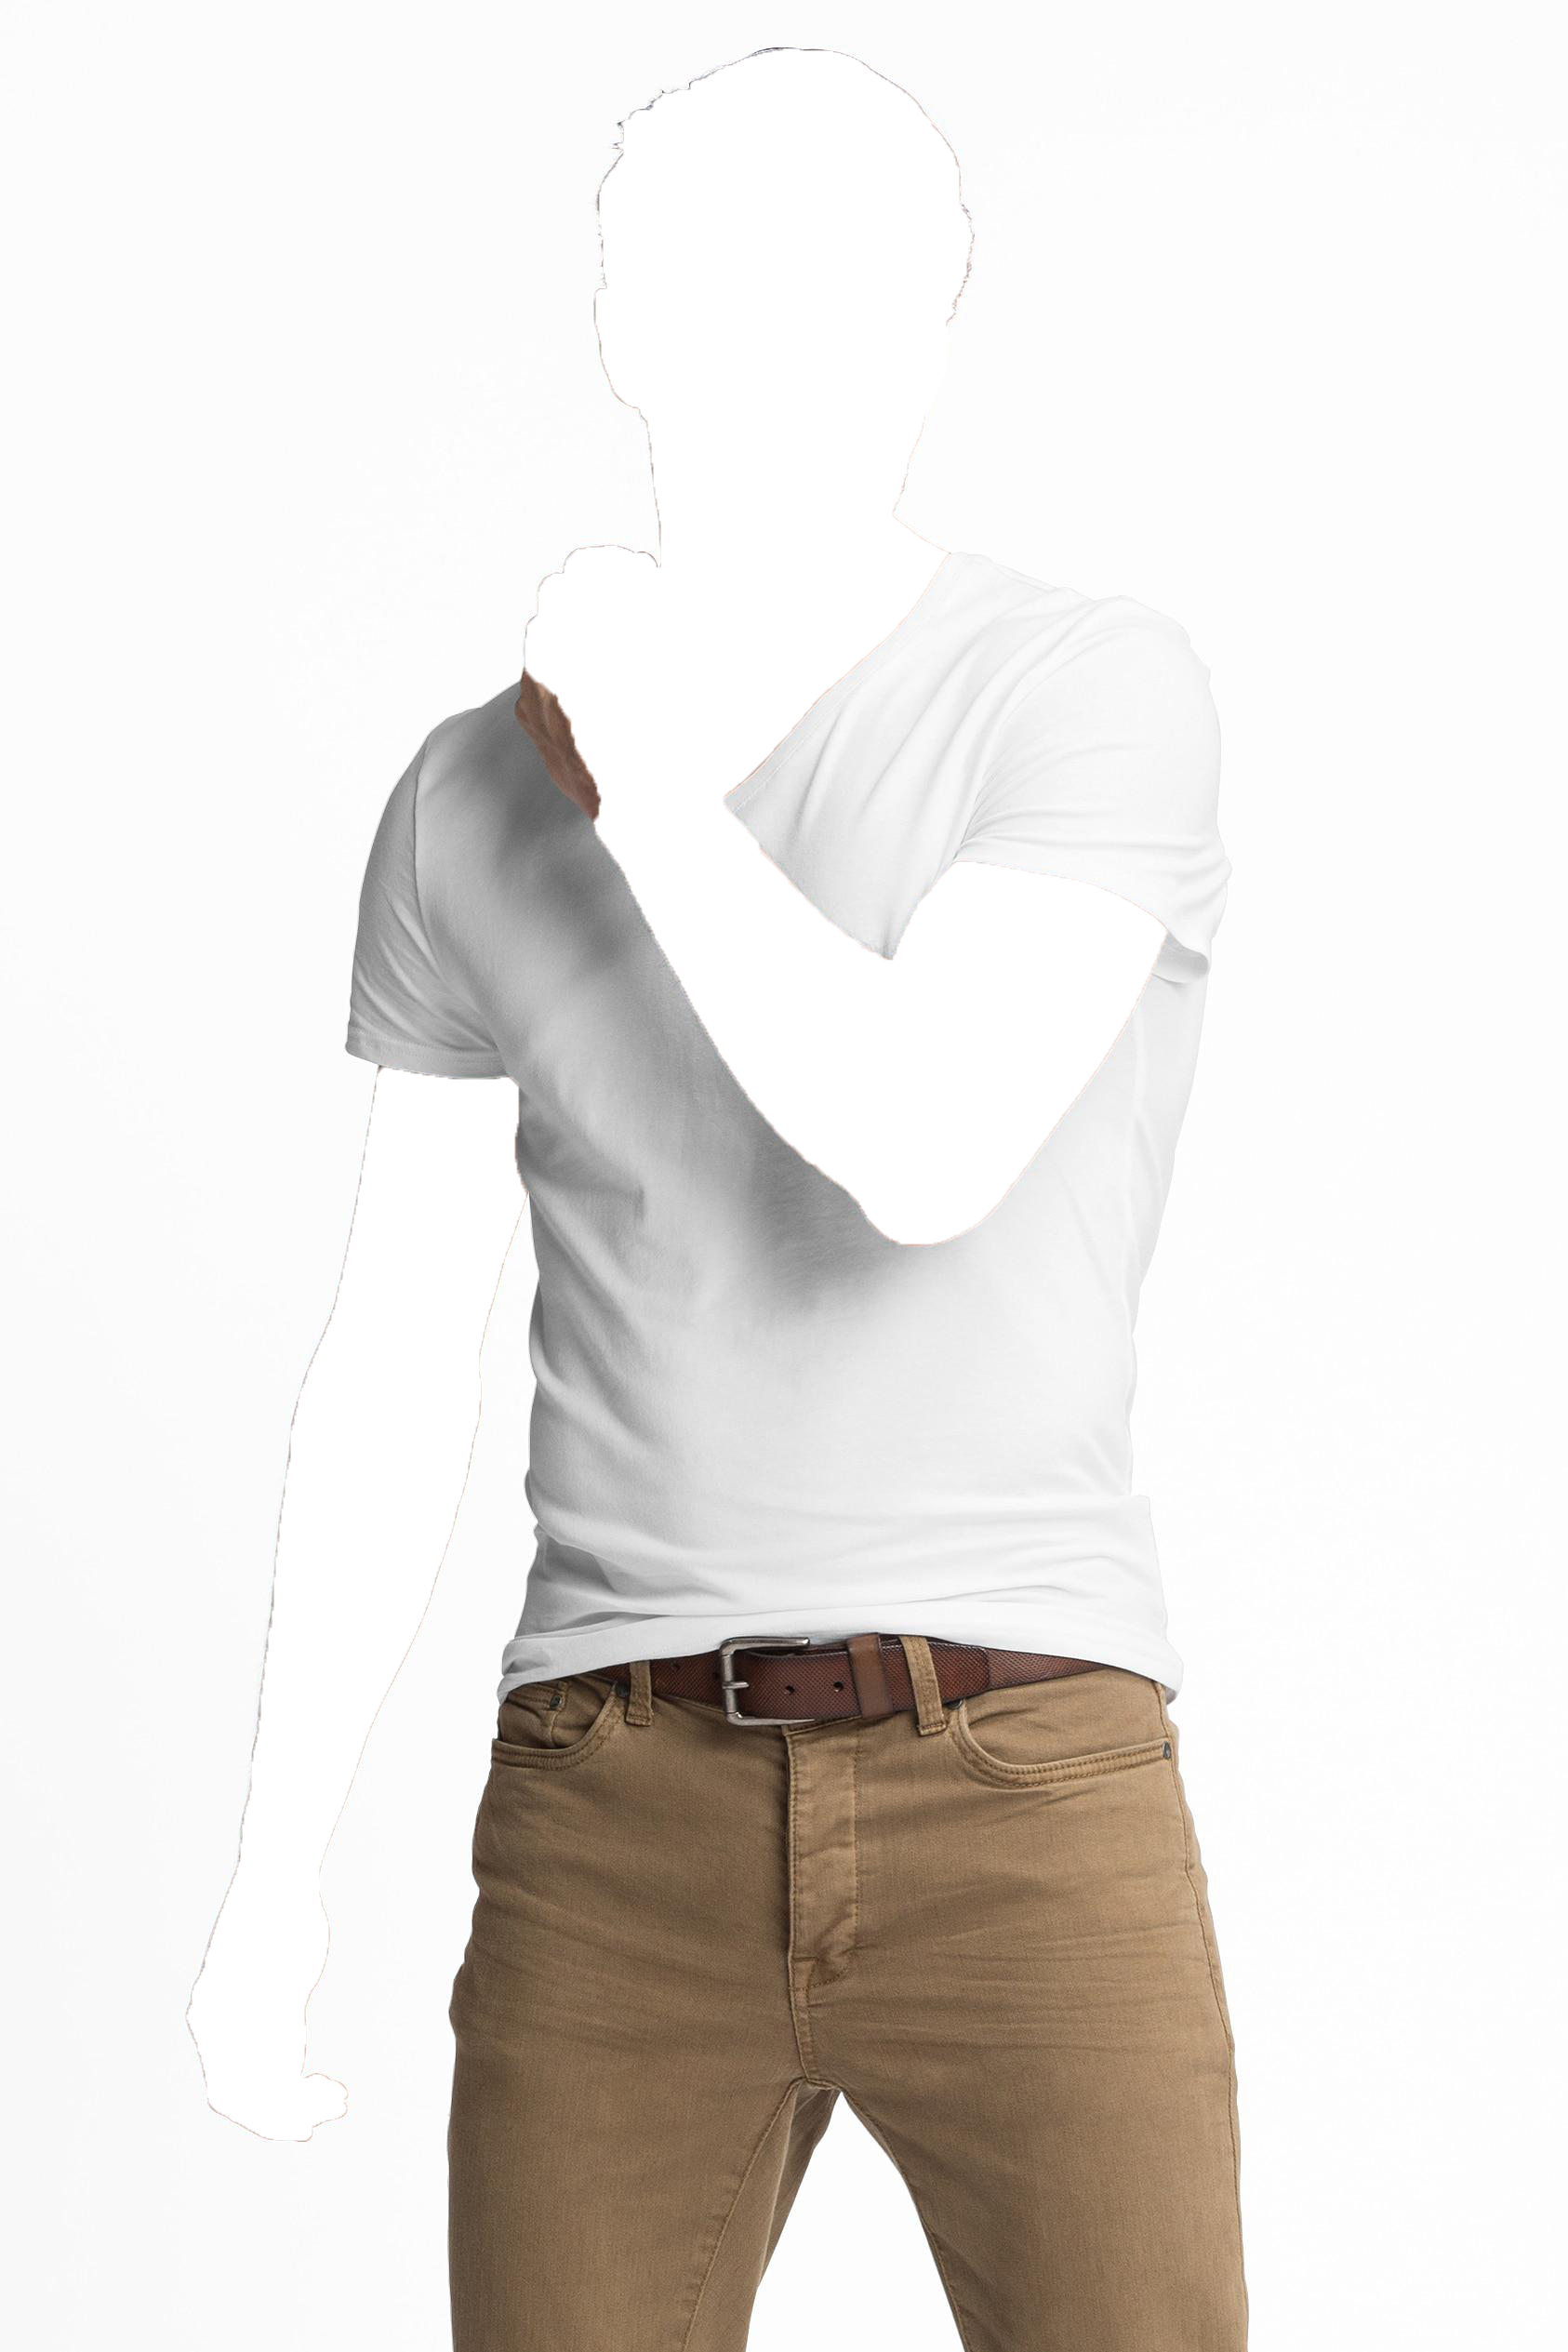teeshirt: (306, 560, 1333, 1741)
